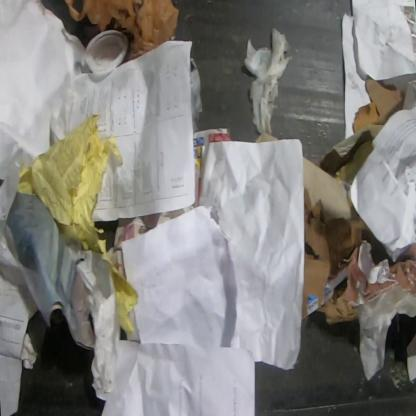cardboard: (302, 190, 369, 322), (318, 124, 385, 188), (303, 155, 358, 224), (353, 76, 405, 133), (315, 285, 359, 326), (396, 242, 415, 263), (255, 132, 280, 142)
rigid_plastic: (80, 30, 130, 74)
soft_plastic: (64, 0, 179, 61), (356, 283, 415, 383), (244, 27, 294, 136), (0, 149, 34, 242), (190, 66, 204, 132)
